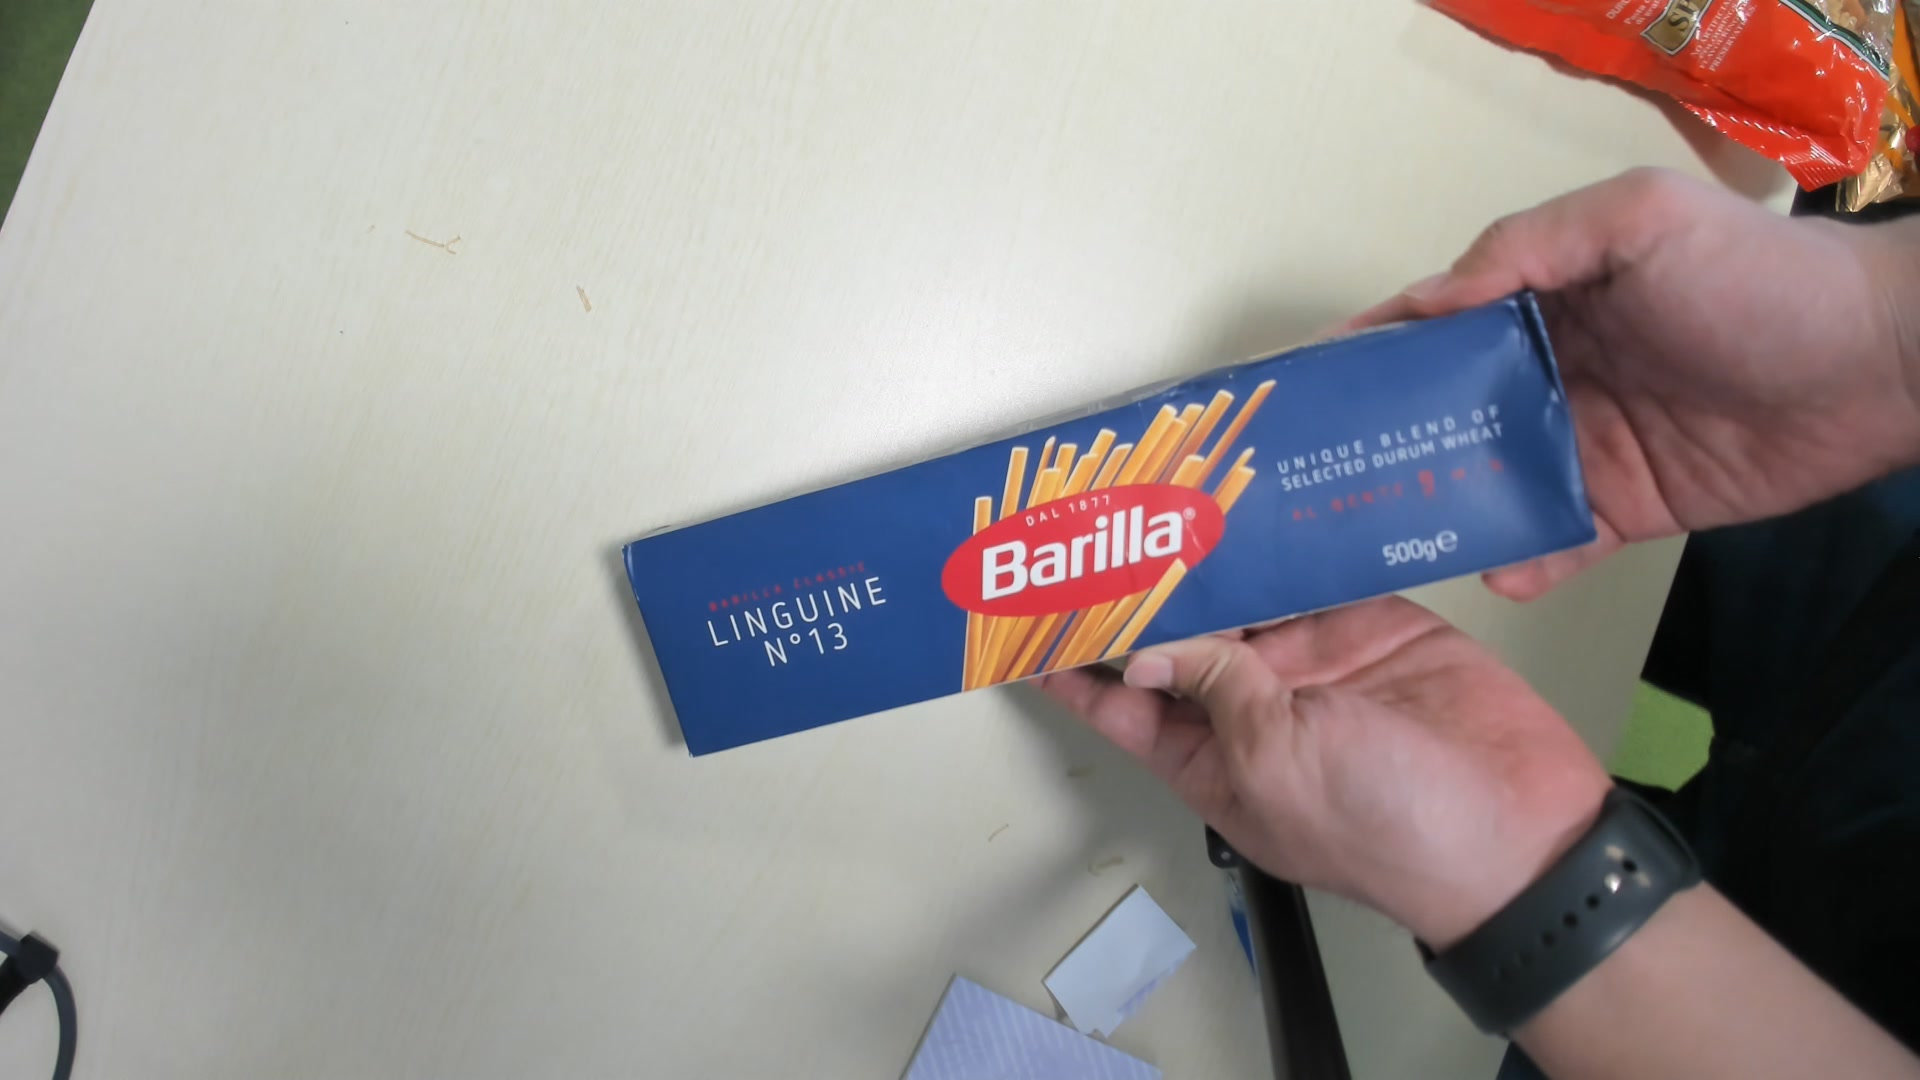Pasta_500-599g_NonHalal_NonHealthy: (620, 291, 1600, 764)
